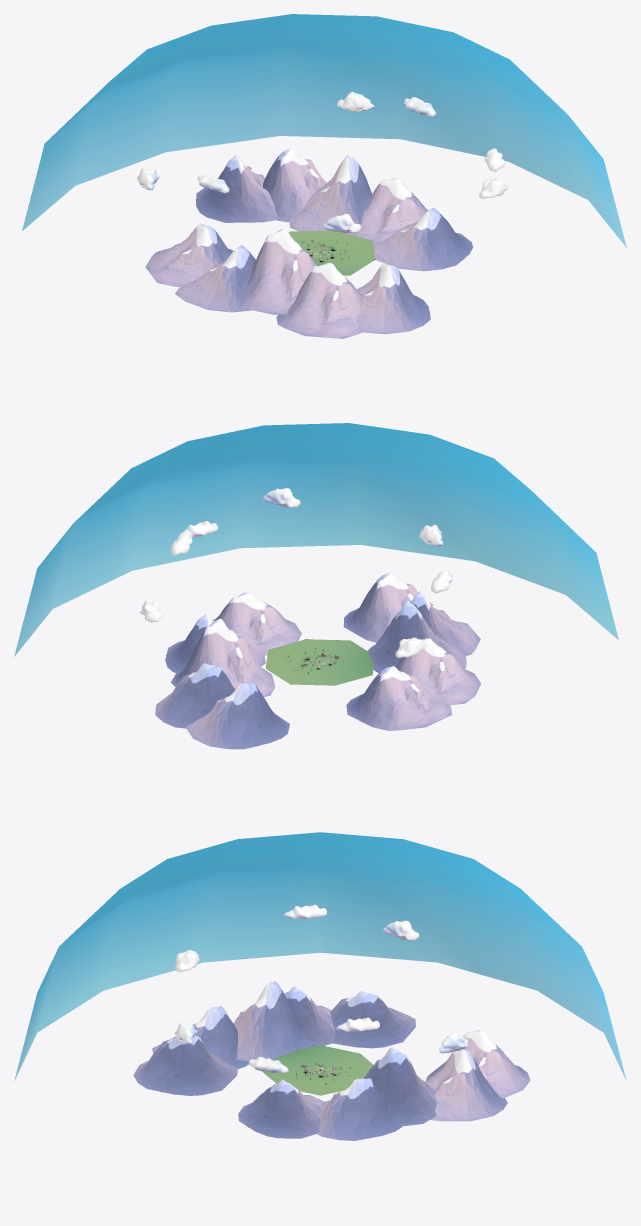
The model's file is GardenDo_environment_v1.04.glb.
The picture shows the model from 3 angles, top to bottom: view 1: azimuth 30°, elevation 25°; view 2: azimuth 150°, elevation 25°; view 3: azimuth 270°, elevation 25°; orthographic projection.
Visible parts, largest first — view 1: rpgpp_lt_sky_01.003, rpgpp_lt_mountain_01__8_.002, rpgpp_lt_mountain_01__7_.002, rpgpp_lt_mountain_01__1_.002, rpgpp_lt_mountain_01__9_.002, rpgpp_lt_mountain_01__4_.002, rpgpp_lt_mountain_01__2_.002, rpgpp_lt_mountain_01__6_.002, rpgpp_lt_mountain_01__5_.002, rpgpp_lt_mountain_01.005, rpgpp_lt_mountain_01__3_.002, ground.001; view 2: rpgpp_lt_sky_01.003, rpgpp_lt_mountain_01__6_.002, rpgpp_lt_mountain_01__4_.002, ground.001, rpgpp_lt_mountain_01__2_.002, rpgpp_lt_mountain_01__5_.002, rpgpp_lt_mountain_01__3_.002, rpgpp_lt_mountain_01__1_.002, rpgpp_lt_mountain_01__9_.002, rpgpp_lt_mountain_01__7_.002, rpgpp_lt_mountain_01__8_.002, rpgpp_lt_mountain_01.005; view 3: rpgpp_lt_sky_01.003, rpgpp_lt_mountain_01__9_.002, rpgpp_lt_mountain_01__7_.002, rpgpp_lt_mountain_01__3_.002, rpgpp_lt_mountain_01.005, ground.001, rpgpp_lt_mountain_01__1_.002, rpgpp_lt_mountain_01__2_.002, rpgpp_lt_mountain_01__6_.002, rpgpp_lt_mountain_01__4_.002, rpgpp_lt_mountain_01__8_.002, rpgpp_lt_mountain_01__5_.002.
Boxes of the visible parts, x1,y1,x2,y2 form: rpgpp_lt_sky_01.003: [22, 14, 626, 247]; rpgpp_lt_mountain_01__8_.002: [276, 262, 362, 338]; rpgpp_lt_mountain_01__7_.002: [240, 228, 316, 314]; rpgpp_lt_mountain_01__1_.002: [373, 207, 472, 271]; rpgpp_lt_mountain_01__9_.002: [357, 262, 430, 334]; rpgpp_lt_mountain_01__4_.002: [196, 155, 278, 222]; rpgpp_lt_mountain_01__2_.002: [289, 155, 371, 235]; rpgpp_lt_mountain_01__6_.002: [145, 223, 233, 286]; rpgpp_lt_mountain_01__5_.002: [175, 244, 255, 312]; rpgpp_lt_mountain_01.005: [355, 178, 427, 242]; rpgpp_lt_mountain_01__3_.002: [262, 148, 326, 222]; ground.001: [288, 230, 375, 275]; rpgpp_lt_sky_01.003: [14, 423, 618, 656]; rpgpp_lt_mountain_01__6_.002: [346, 666, 452, 730]; rpgpp_lt_mountain_01__4_.002: [185, 682, 289, 749]; ground.001: [265, 639, 374, 685]; rpgpp_lt_mountain_01__2_.002: [171, 618, 275, 697]; rpgpp_lt_mountain_01__5_.002: [396, 638, 481, 705]; rpgpp_lt_mountain_01__3_.002: [155, 663, 235, 728]; rpgpp_lt_mountain_01__1_.002: [213, 592, 301, 655]; rpgpp_lt_mountain_01__9_.002: [343, 572, 417, 642]; rpgpp_lt_mountain_01__7_.002: [367, 600, 466, 672]; rpgpp_lt_mountain_01__8_.002: [411, 591, 480, 655]; rpgpp_lt_mountain_01.005: [165, 614, 265, 673]; rpgpp_lt_sky_01.003: [14, 832, 626, 1081]; rpgpp_lt_mountain_01__9_.002: [133, 1035, 237, 1095]; rpgpp_lt_mountain_01__7_.002: [233, 981, 313, 1061]; rpgpp_lt_mountain_01__3_.002: [425, 1049, 507, 1121]; rpgpp_lt_mountain_01.005: [317, 1078, 402, 1140]; ground.001: [262, 1045, 373, 1095]; rpgpp_lt_mountain_01__1_.002: [238, 1079, 324, 1138]; rpgpp_lt_mountain_01__2_.002: [363, 1047, 436, 1126]; rpgpp_lt_mountain_01__6_.002: [330, 991, 415, 1048]; rpgpp_lt_mountain_01__4_.002: [426, 1030, 530, 1098]; rpgpp_lt_mountain_01__8_.002: [152, 1005, 248, 1069]; rpgpp_lt_mountain_01__5_.002: [284, 986, 334, 1047].
Size of the model in its own units: 1000 by 380 by 1000.
1 material, 1 textured.
